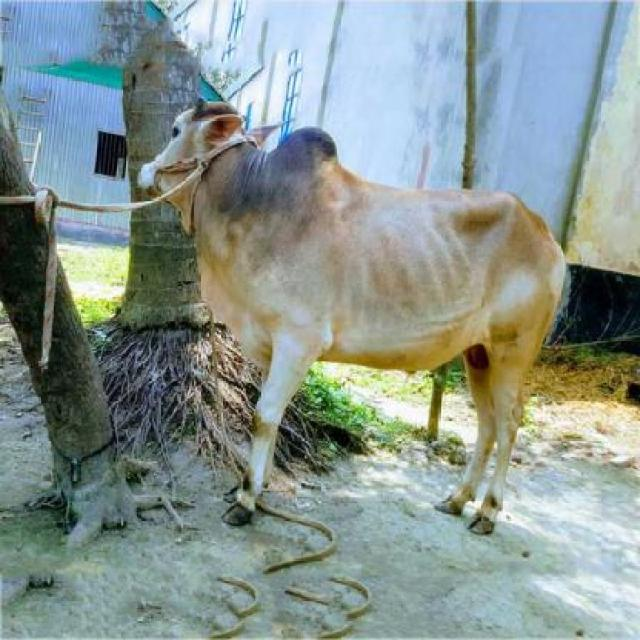Cow: (138, 96, 562, 546)
